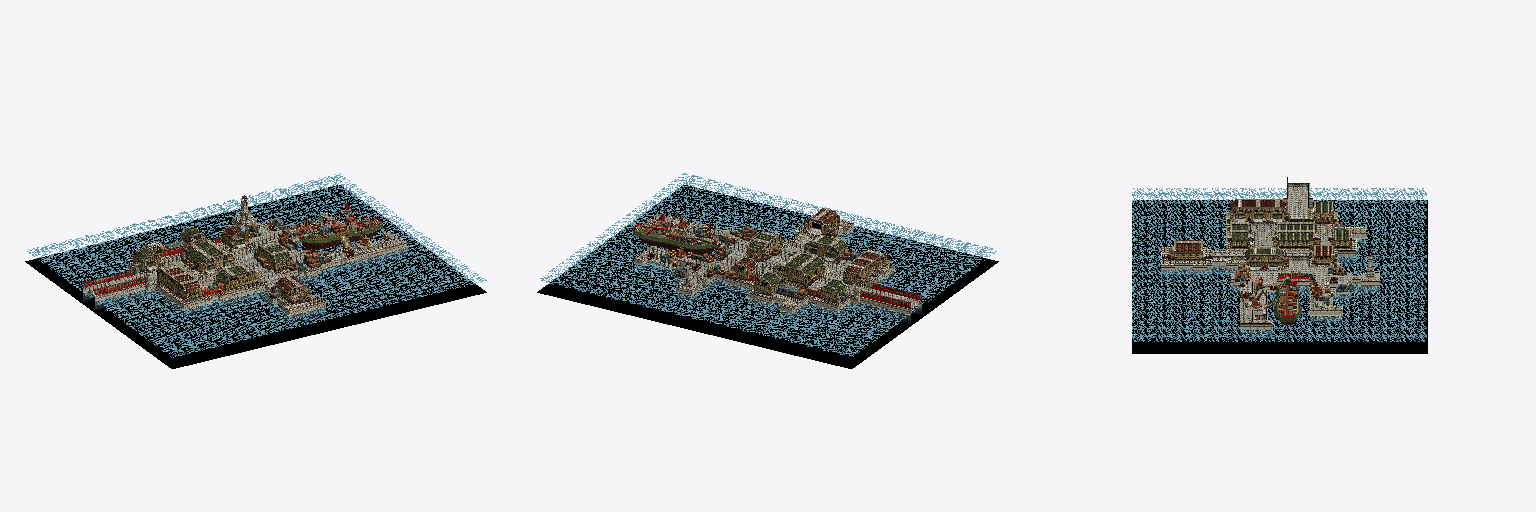
3 renders of one model, left to right at view 1: azimuth 30°, elevation 25°; view 2: azimuth 150°, elevation 25°; view 3: azimuth 270°, elevation 25°, orthographic.
Parts seen in each view (by area): view 1: Object.011; view 2: Object.011; view 3: Object.011.
Part boxes in pixels (bbox=[...]): Object.011: bbox=[25, 173, 486, 368]; Object.011: bbox=[537, 173, 998, 368]; Object.011: bbox=[1132, 177, 1427, 353].
Bounding box in the file's own units: 156 × 19.9 × 126.
Materials: 25 (25 with a texture image).